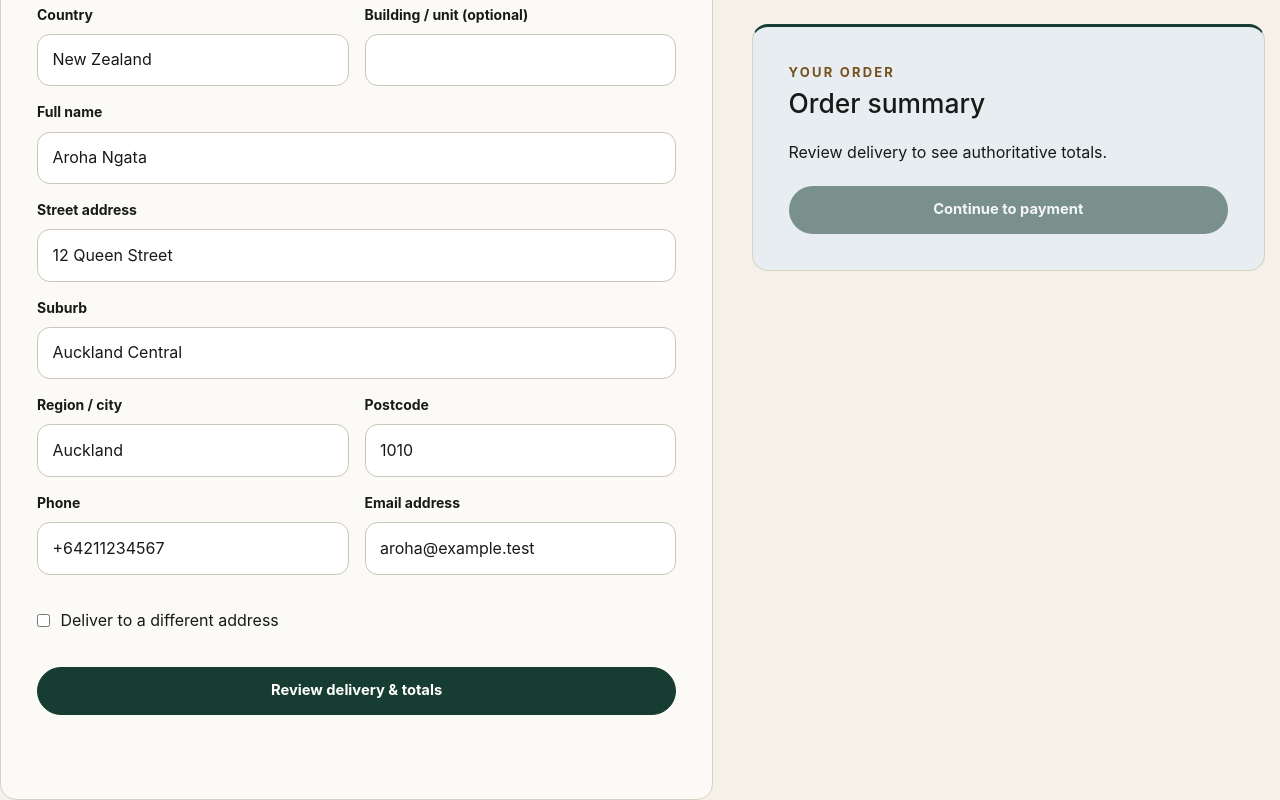
CheckoutView › filters Pay by Bank using reviewed NZ / NZD
(page scrolled)
Click the button "Review delivery & totals". click: point(357, 691)
box: [37,667,676,715]
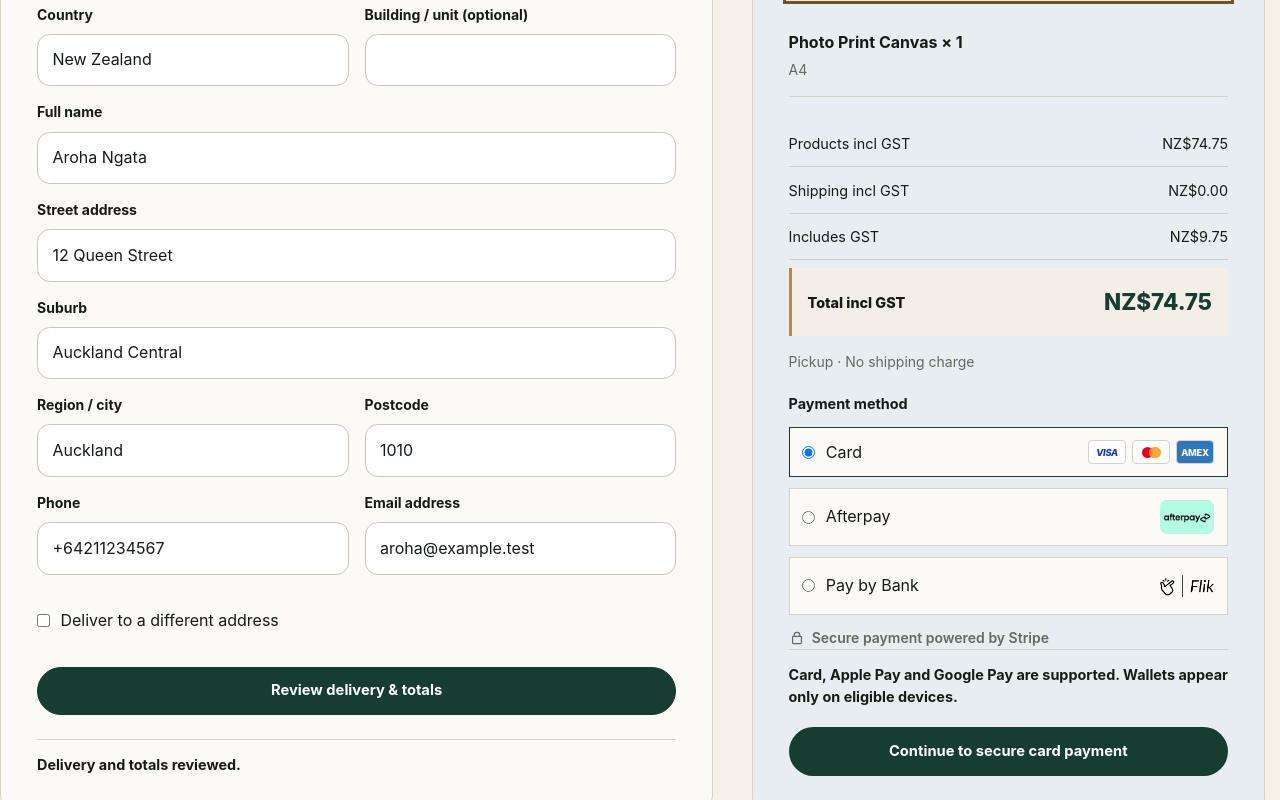
Expected: the radio button labelled "Card" is shown, [802,446,815,458]
Expected: the radio button labelled "Afterpay" is shown, [802,510,815,523]
